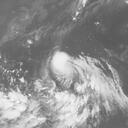cyclone: (47, 51, 99, 97)
